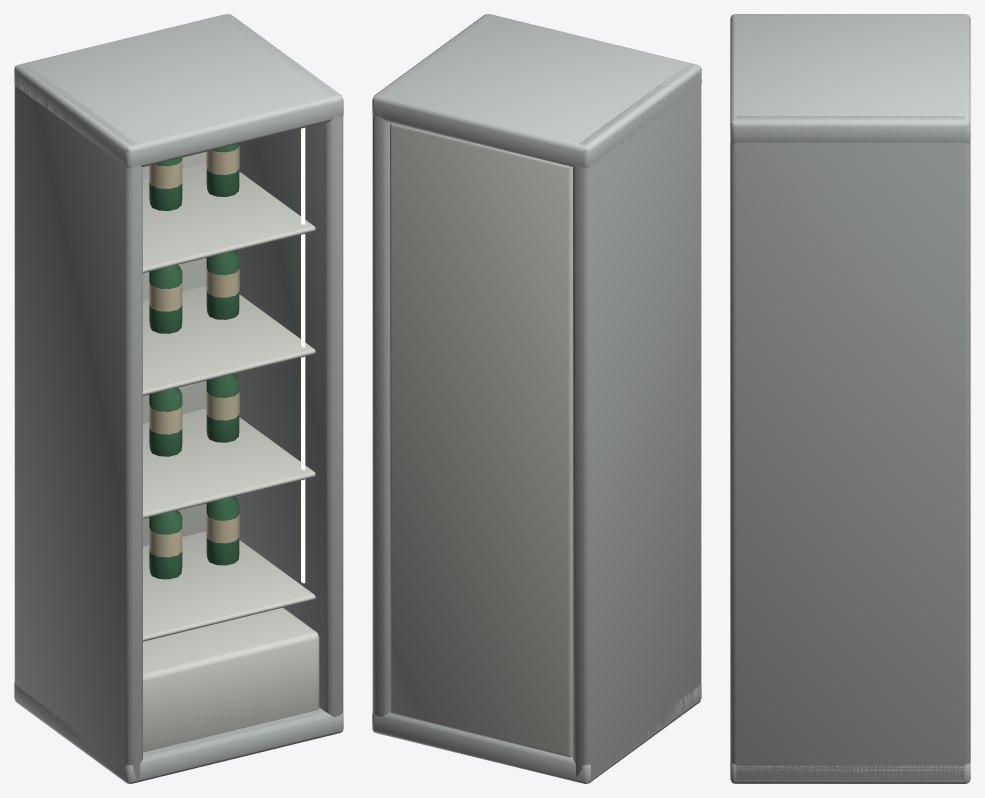
The model's file is glass-fridge-lod1.glb.
The picture shows the model from 3 angles, left to right: view 1: azimuth 30°, elevation 25°; view 2: azimuth 150°, elevation 25°; view 3: azimuth 270°, elevation 25°; orthographic projection. The views are drawn at different scales.
Visible parts, largest first — view 1: glass-fridge.lod1__furniture polished nickel, glass-fridge.lod1__fridge ivory interior, glass-fridge.lod1__fridge bottle green, glass-fridge.lod1__fridge label cream, glass-fridge.lod1__fridge warm light; view 2: glass-fridge.lod1__furniture polished nickel, glass-fridge.lod1__fridge ivory interior; view 3: glass-fridge.lod1__furniture polished nickel.
Part boxes in pixels (box(x1,y1,x2,y2)): glass-fridge.lod1__furniture polished nickel: box(14, 14, 343, 783); glass-fridge.lod1__fridge ivory interior: box(143, 152, 319, 752); glass-fridge.lod1__fridge bottle green: box(149, 144, 239, 579); glass-fridge.lod1__fridge label cream: box(149, 146, 239, 557); glass-fridge.lod1__fridge warm light: box(301, 127, 305, 583); glass-fridge.lod1__furniture polished nickel: box(372, 14, 701, 783); glass-fridge.lod1__fridge ivory interior: box(390, 123, 572, 757); glass-fridge.lod1__furniture polished nickel: box(730, 14, 970, 783).
Size of what is drawn, in the model's own units: 0.7601 by 2.13 by 0.7.
